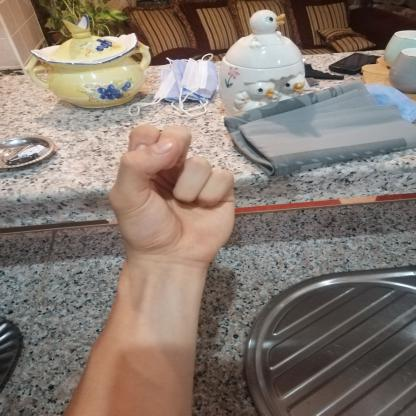QAAF: (98, 119, 254, 277)
